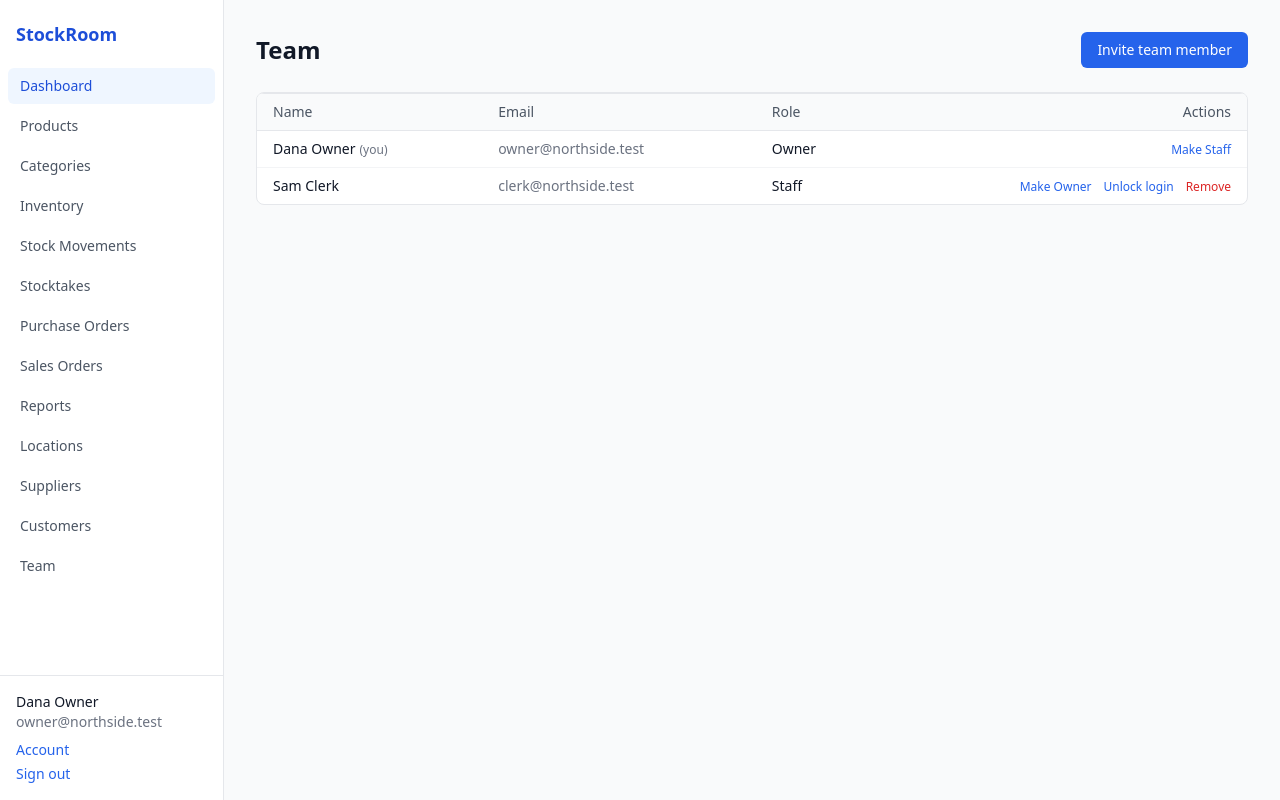
Test: TeamPage unlock login › reports that a lockout was cleared
Expected: the text "Sam Clerk" is shown, [257, 168, 482, 204]
Click the button "Unlock login": (1139, 187) [1104, 179, 1174, 195]
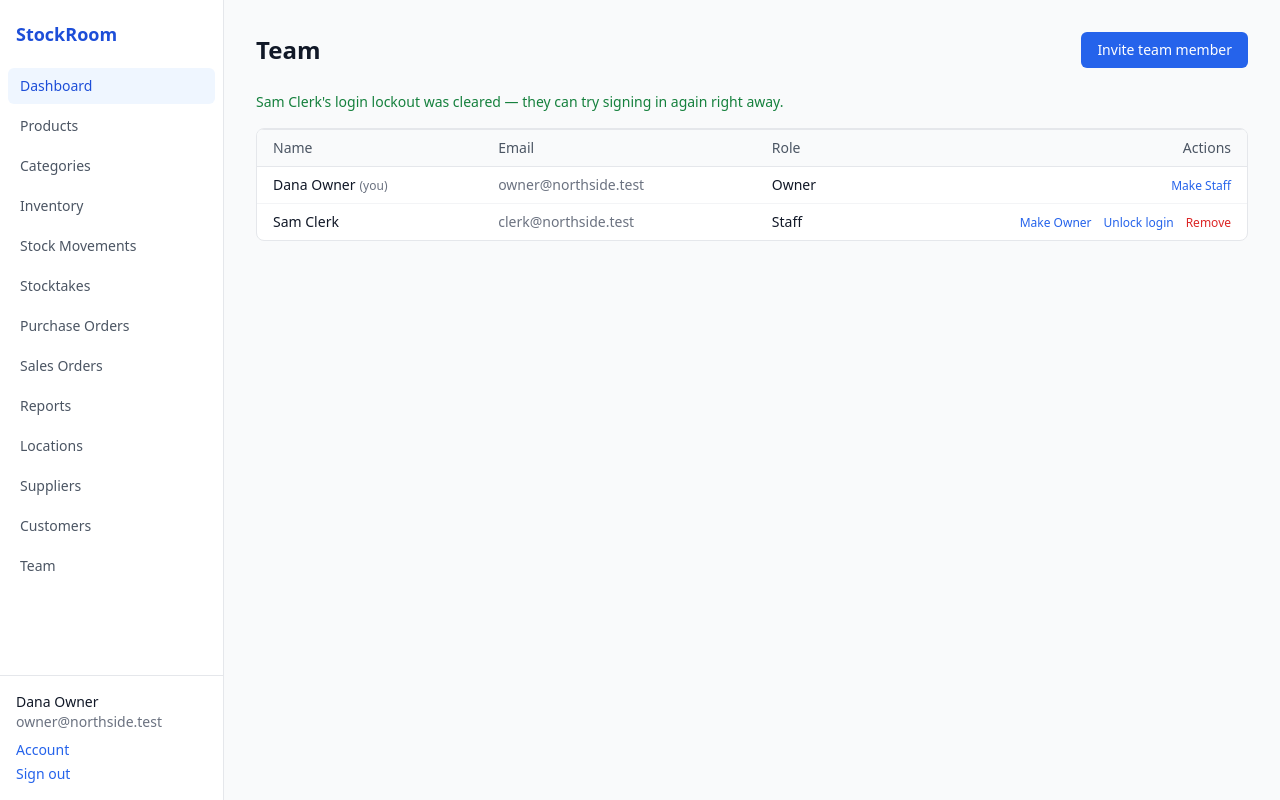
Result: the text "Sam Clerk's login lockout was cleared" is shown at [256, 92, 783, 111]
